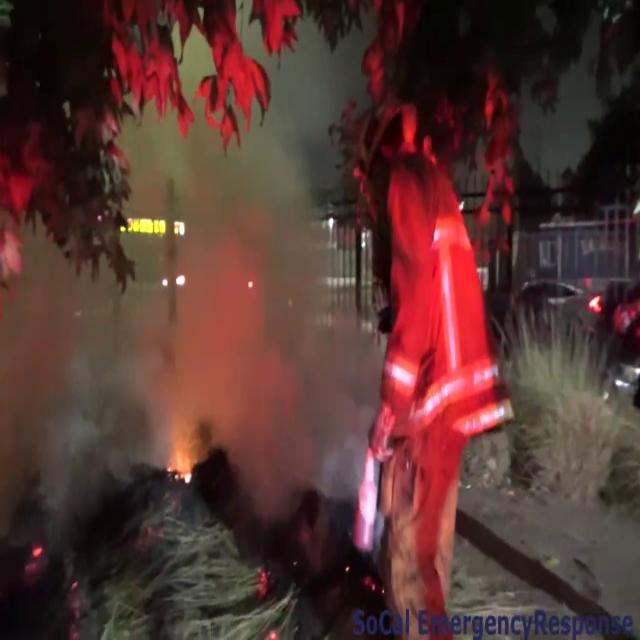Smoke: (1, 2, 370, 550)
